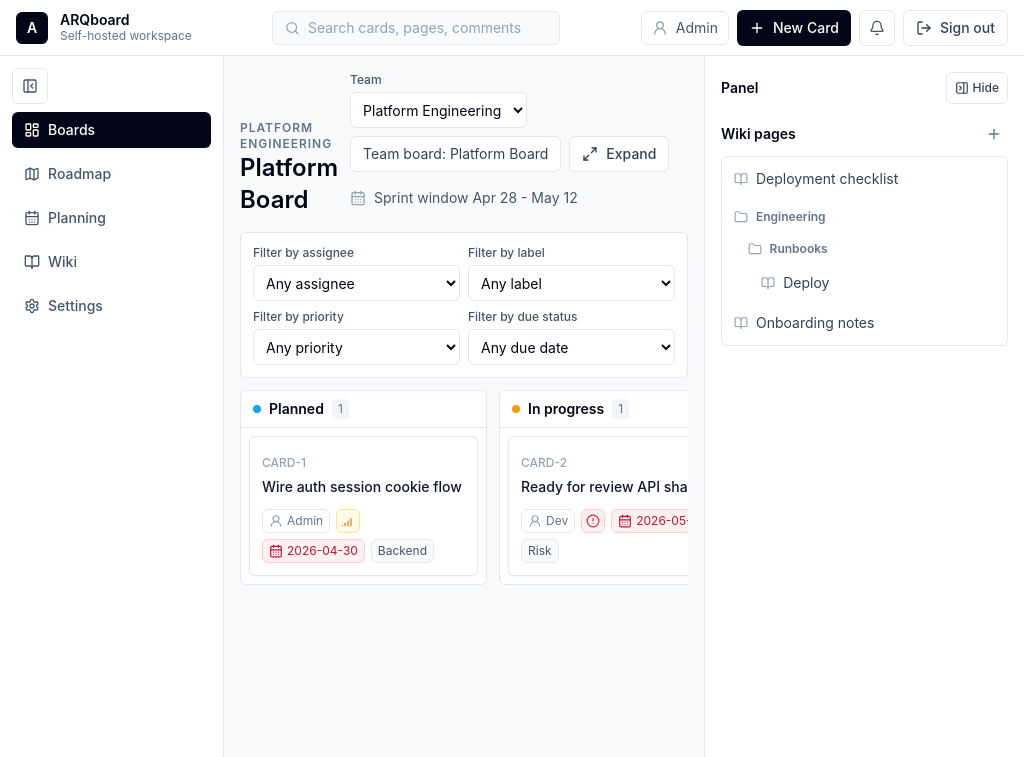
Scenario: App › edits card details from the dedicated card page
This screenshot has width=1024, height=757.
Click the button with aria-label "view card wire auth session cookie flow".
click(364, 506)  # box [250,437,477,575]
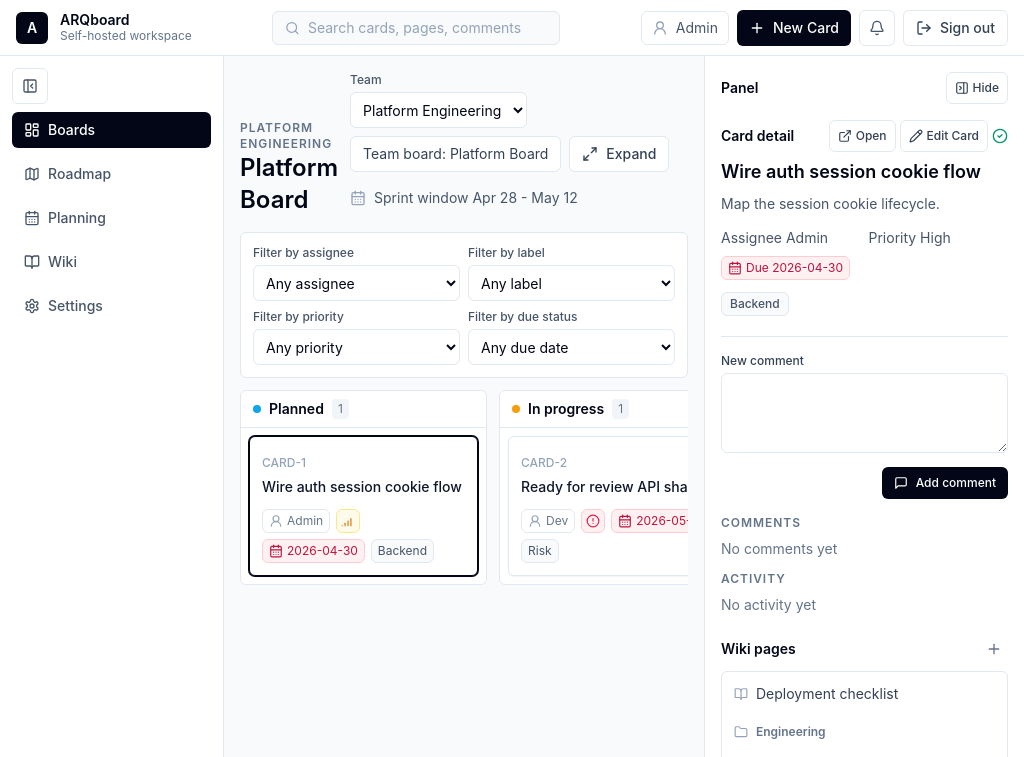
Click the button with aria-label "open card page".
click(862, 136)  # box [829,120,896,152]
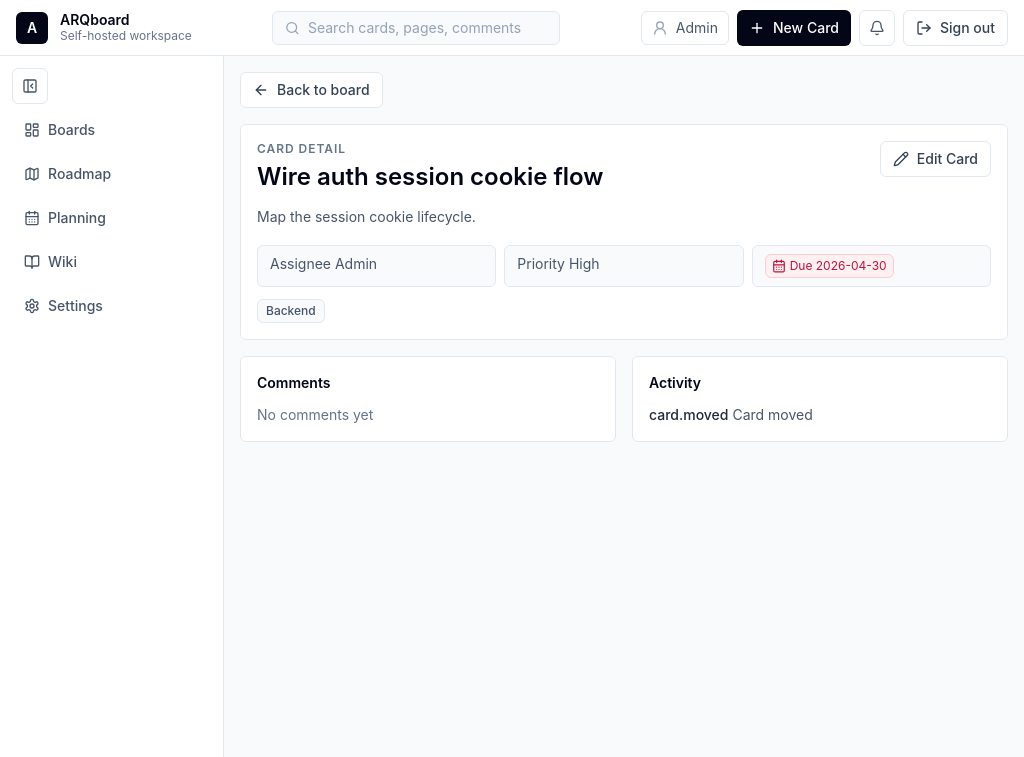
Click the button "Edit Card".
click(935, 159)  # box [880,141,991,177]
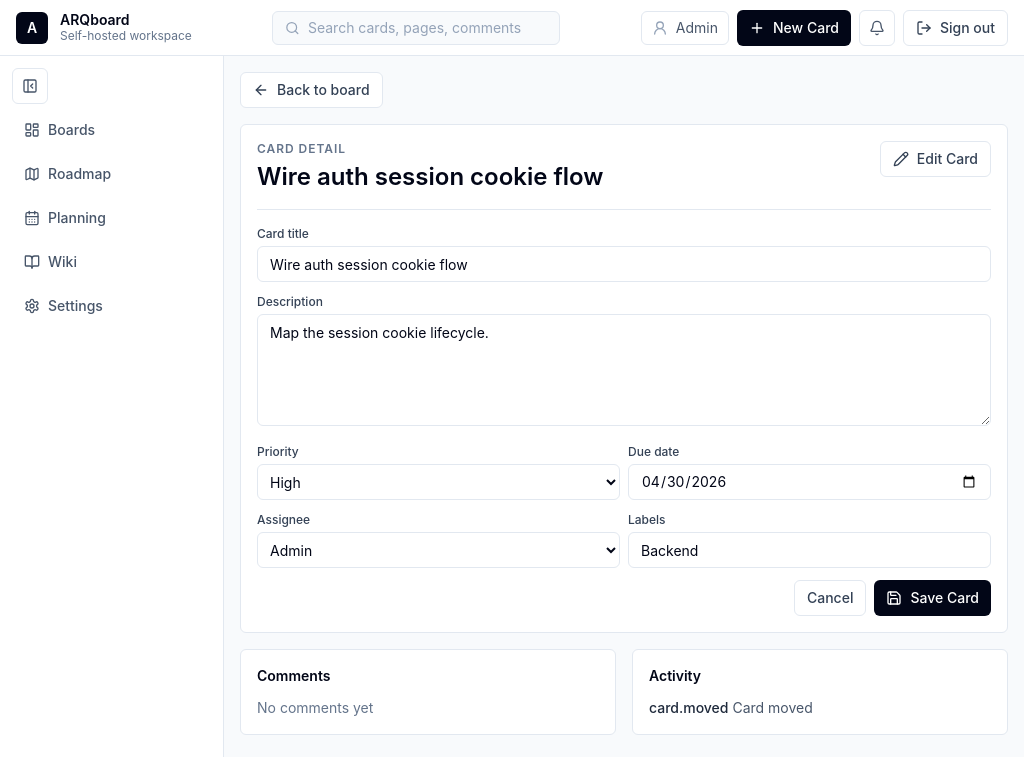
Replace the text in the field labelled "Card title" with "Wire production auth flow" at coordinates (624, 264), box [257,246,991,282]
Replace the text in the text box labelled "Description" with "Document cookie boundaries and refresh behavior." at coordinates (624, 370), box [257,314,991,426]
Select "Urgent" in the dropdown labelled "Priority" at coordinates (438, 482), box [257,464,620,500]
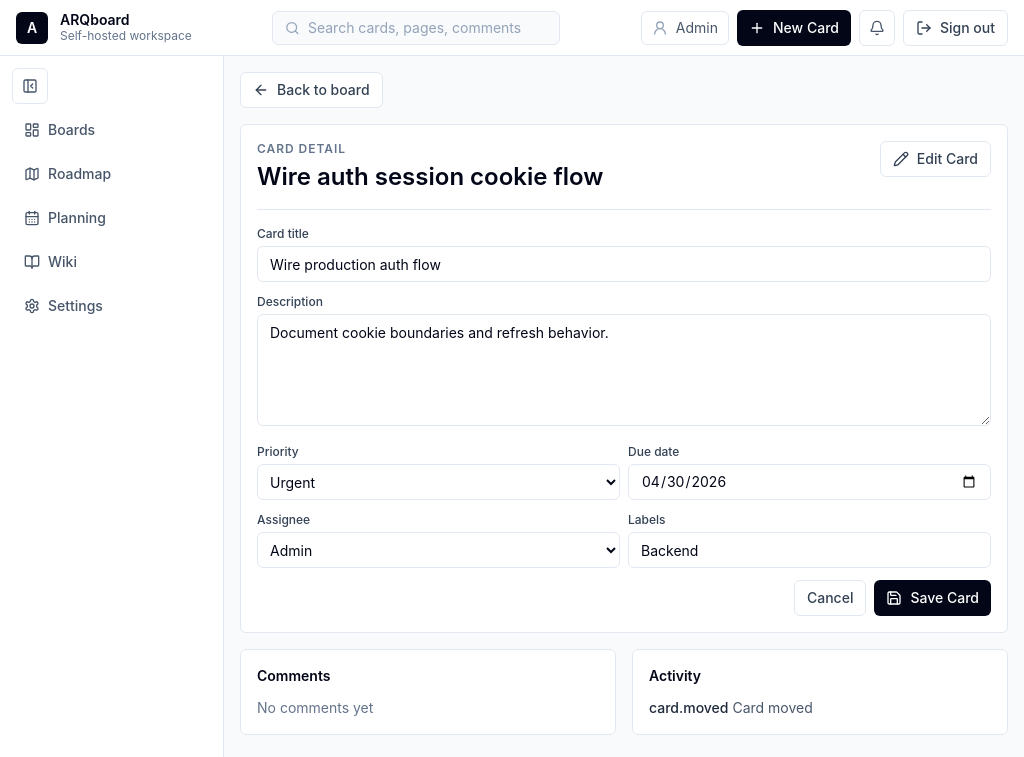
Type "2026-05-09" into the date field labelled "Due date".
click(810, 482); type("2026-05-09")  # box [628,464,991,500]
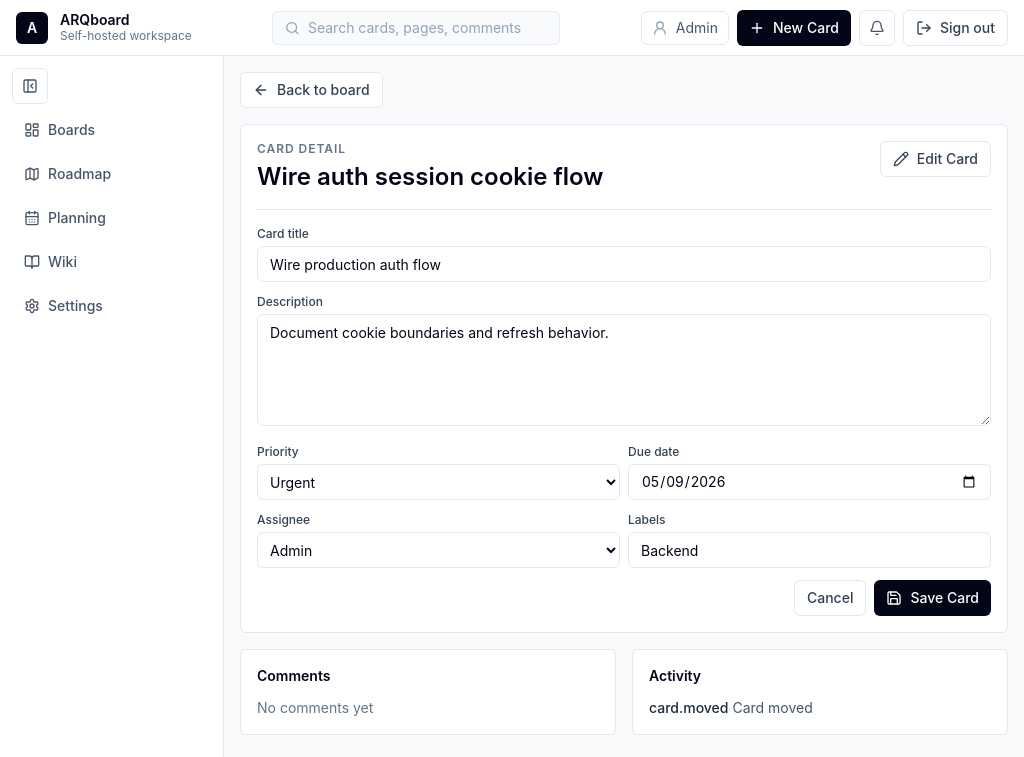
Click the button "Save Card".
click(933, 598)  # box [874,580,991,616]
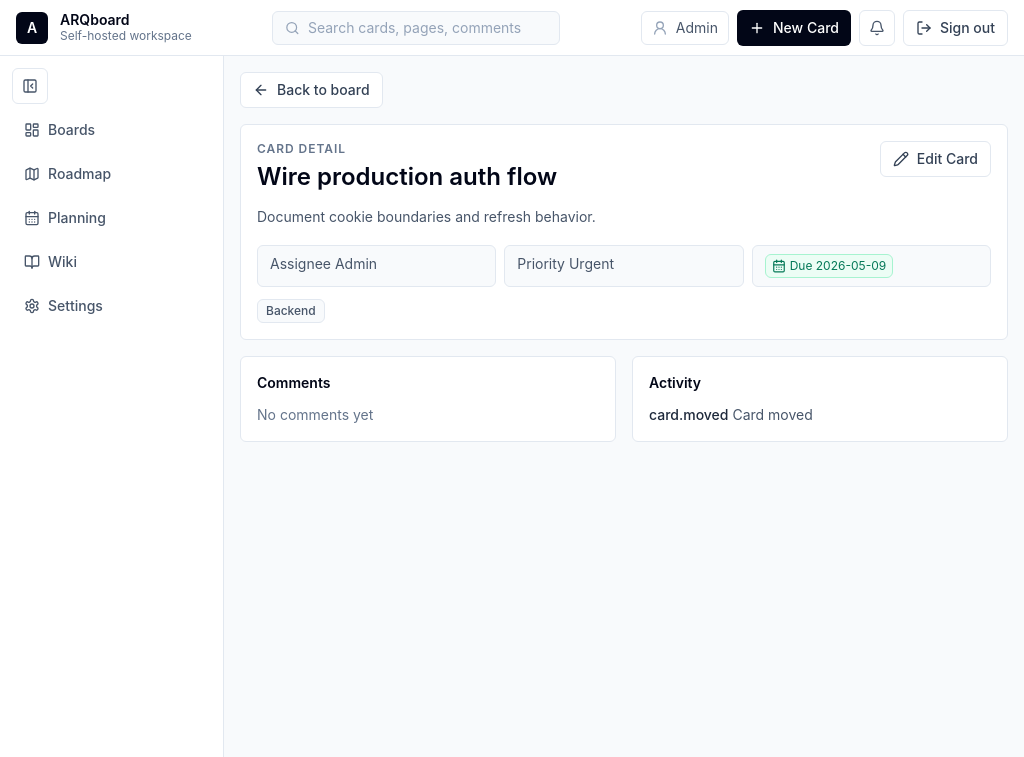
Check: the heading "Wire production auth flow" is shown, box [257,161,557,193]
Check: the text "Due 2026-05-09" is shown, box [790,258,886,274]
